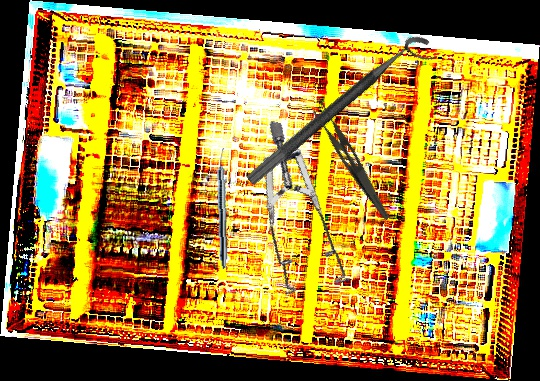Dressing Forceps: (303, 96, 403, 222)
Fixation Ring: (244, 29, 441, 201)
Handpiece: (215, 148, 231, 269)
Speculum: (218, 119, 393, 313)
